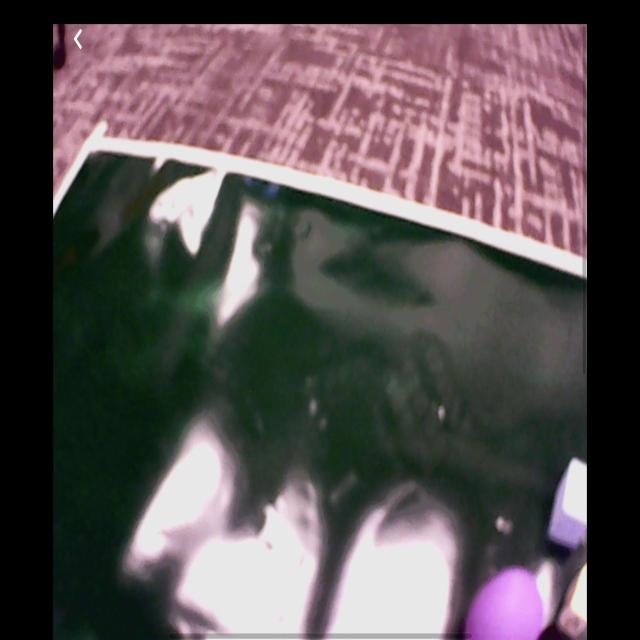ball: (465, 568, 547, 640)
